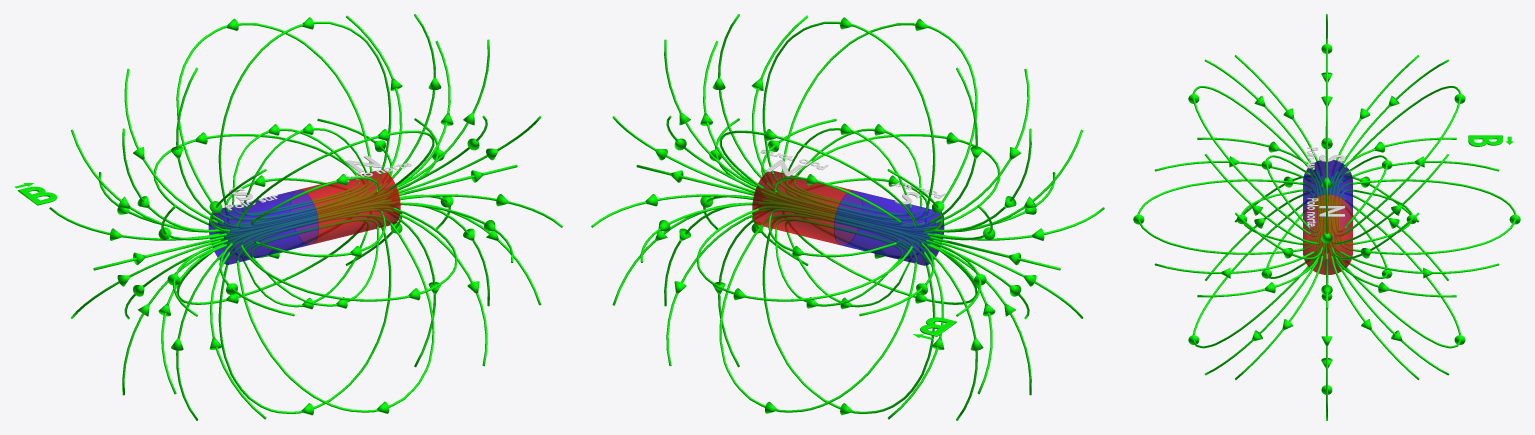
File: iman barra.dae
3 renders of one model, left to right at view 1: azimuth 30°, elevation 25°; view 2: azimuth 150°, elevation 25°; view 3: azimuth 270°, elevation 25°, orthographic. The views are drawn at different scales.
Parts seen in each view (by area): view 1: Texto-letra-campo-magnetico; view 2: Texto-letra-campo-magnetico; view 3: Texto-letra-campo-magnetico.
Boxes of the visible parts, <box> form: Texto-letra-campo-magnetico: <box>14,14,562,420</box>; Texto-letra-campo-magnetico: <box>591,14,1104,420</box>; Texto-letra-campo-magnetico: <box>1133,14,1520,420</box>.
Size of the model in its own units: 12.14 by 10.9 by 10.89.
